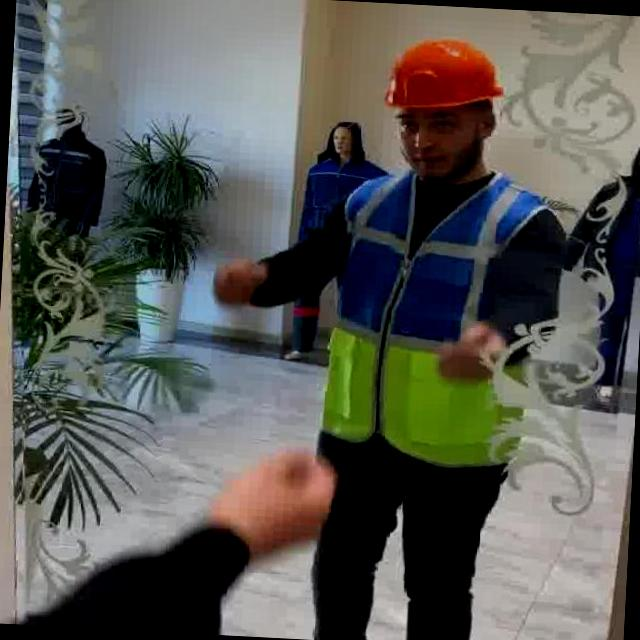vest: (316, 161, 553, 475)
